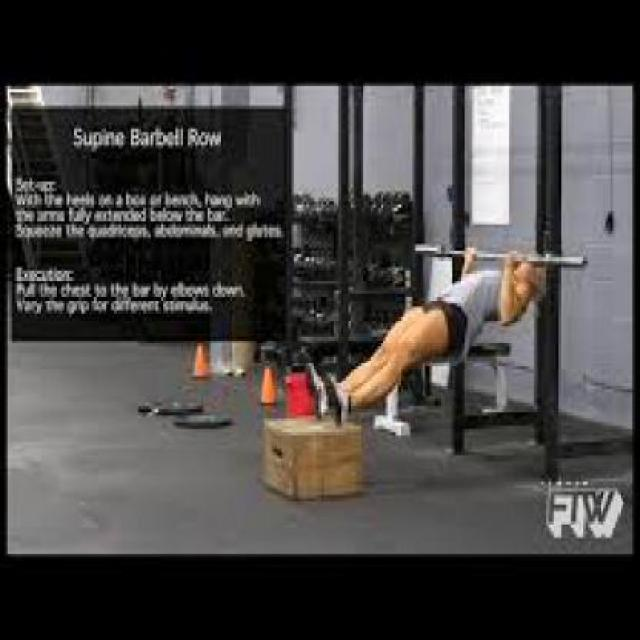Barbell: (576, 248, 593, 274)
